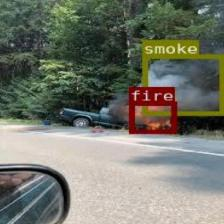fire: (128, 101, 175, 132)
smoke: (141, 53, 224, 115)
